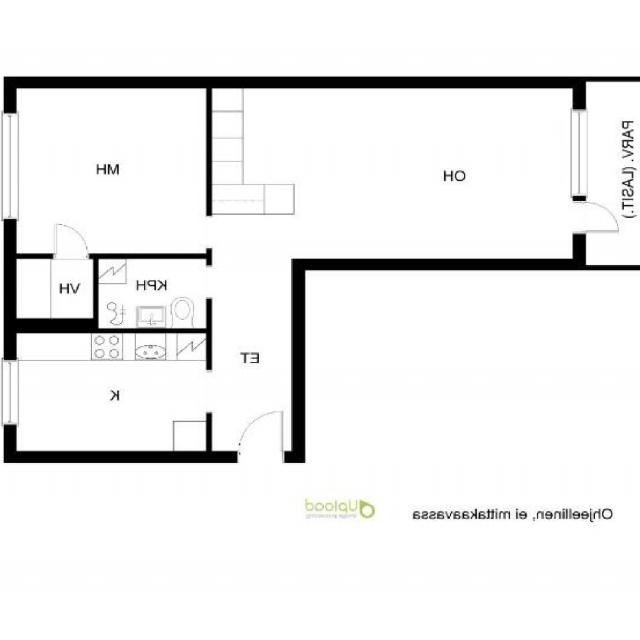door: (239, 412, 282, 463), (572, 202, 618, 231), (54, 223, 87, 258)
